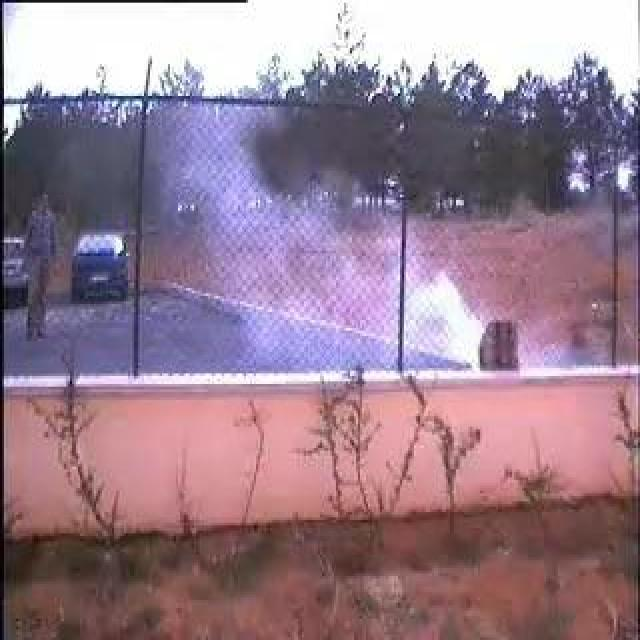Smoke: (180, 102, 542, 374)
